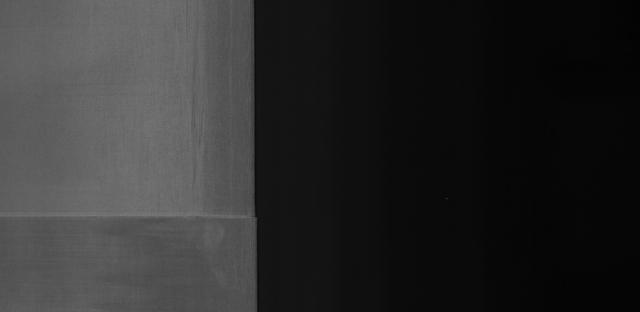welding_line: (5, 205, 265, 231)
